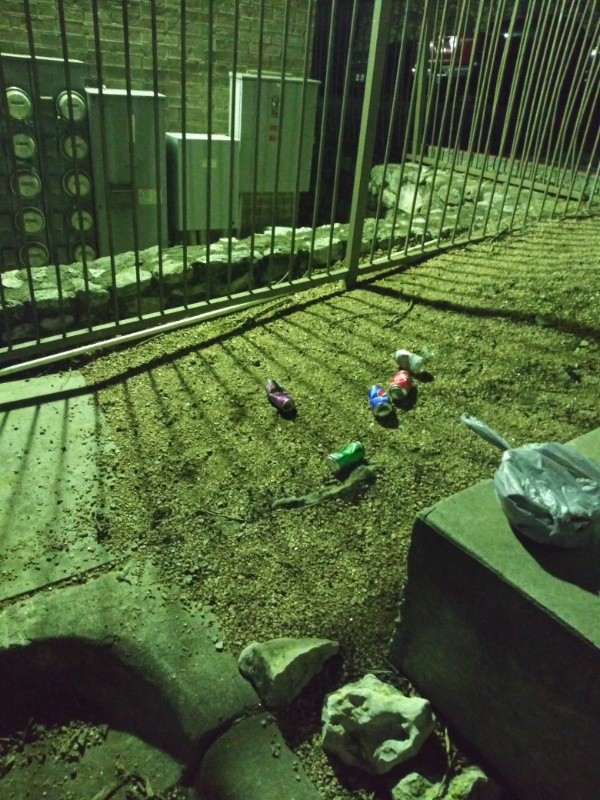can: (324, 436, 371, 474), (262, 375, 305, 415), (392, 341, 432, 377), (364, 379, 395, 422), (390, 367, 414, 404)
